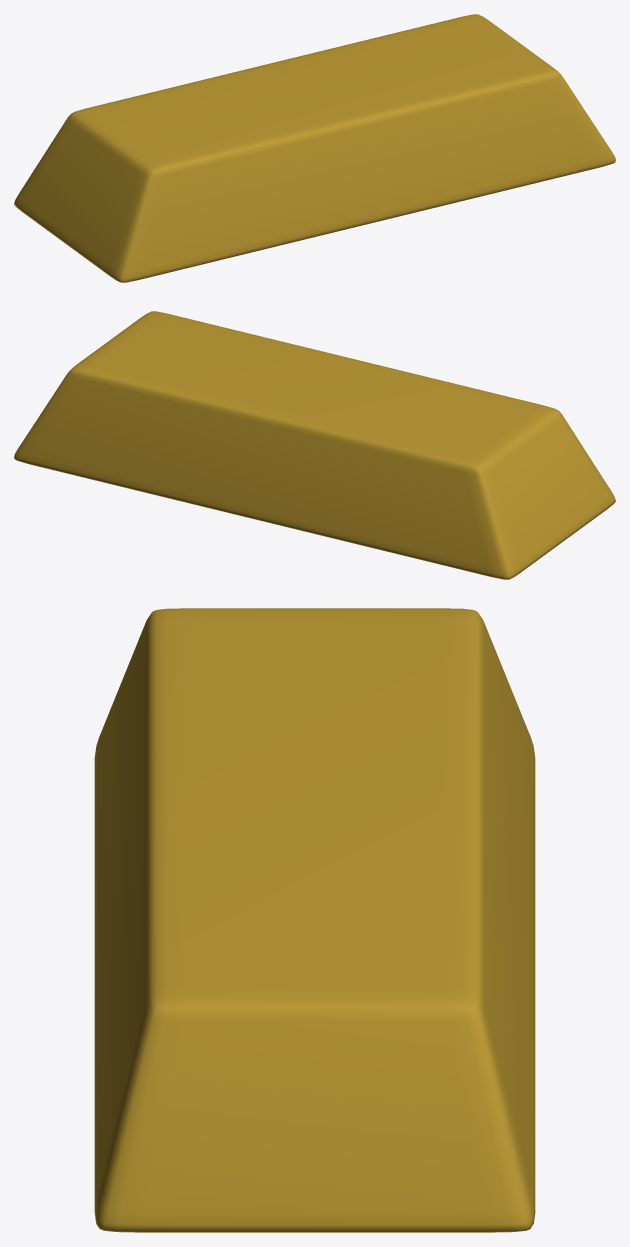
Rendered from Emas.fbx.
The picture shows the model from 3 angles, top to bottom: view 1: azimuth 30°, elevation 25°; view 2: azimuth 150°, elevation 25°; view 3: azimuth 270°, elevation 25°; orthographic projection. The views are drawn at different scales.
Visible parts, largest first — view 1: Cube; view 2: Cube; view 3: Cube.
Part boxes in pixels (<box>): Cube: <box>14,14,615,282</box>; Cube: <box>14,311,615,579</box>; Cube: <box>94,608,535,1232</box>.
Bounding box in the file's own units: 512 × 92.76 × 196.
